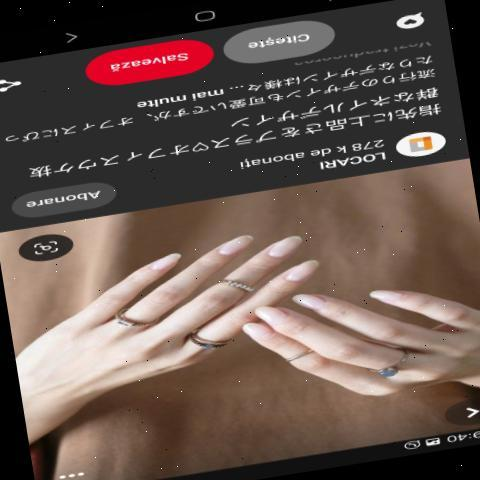Hands: (60, 220, 312, 396), (237, 242, 471, 410)
